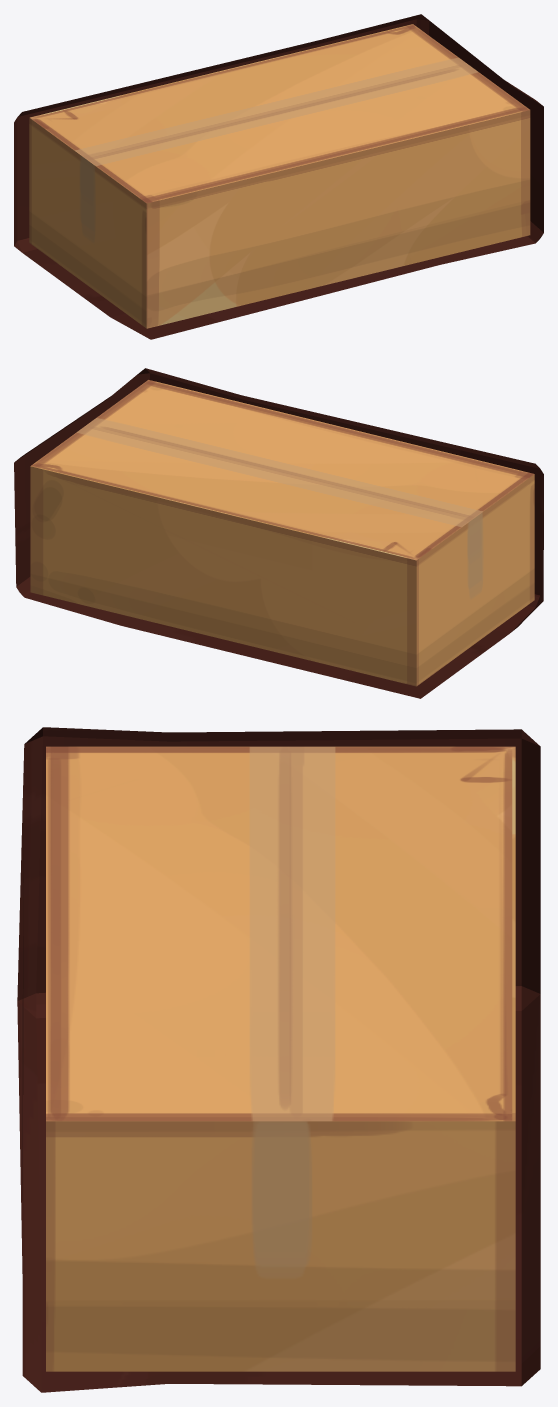
The picture shows the model from 3 angles, top to bottom: view 1: azimuth 30°, elevation 25°; view 2: azimuth 150°, elevation 25°; view 3: azimuth 270°, elevation 25°; orthographic projection. The views are drawn at different scales.
Parts seen in each view (by area): view 1: Box_06; view 2: Box_06; view 3: Box_06.
Part boxes in pixels (x1,y1,x2,y2): Box_06: [14, 14, 543, 339]; Box_06: [14, 368, 543, 698]; Box_06: [17, 727, 540, 1392].
Bounding box in the file's own units: 1.31 × 0.436 × 0.7148.
